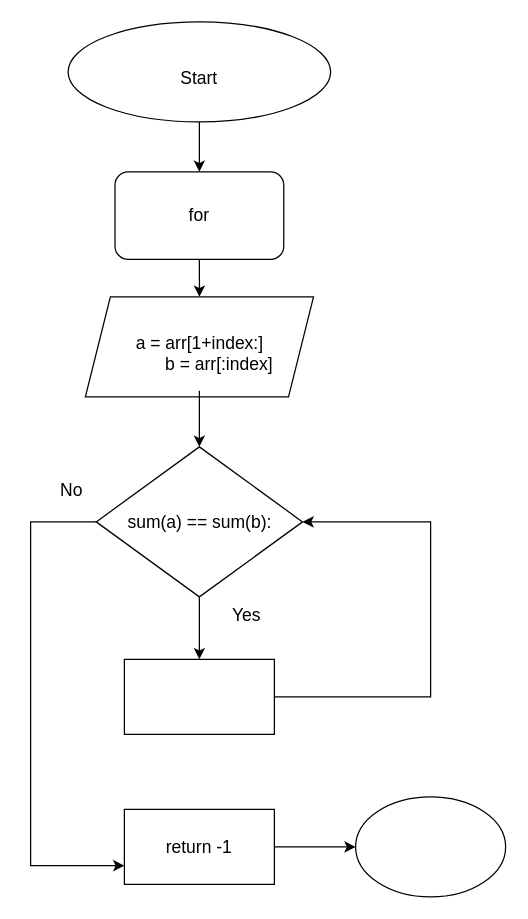
Some shapes in this 528 by 919 pixel diagram are drawn without their labels. The shapes that lost their labels are listed below. From the top down, each one's box as (x1, y1, x2, y2) in pixels, then its label:
(123, 658, 274, 734): return index print(index)
(354, 796, 506, 897): End
